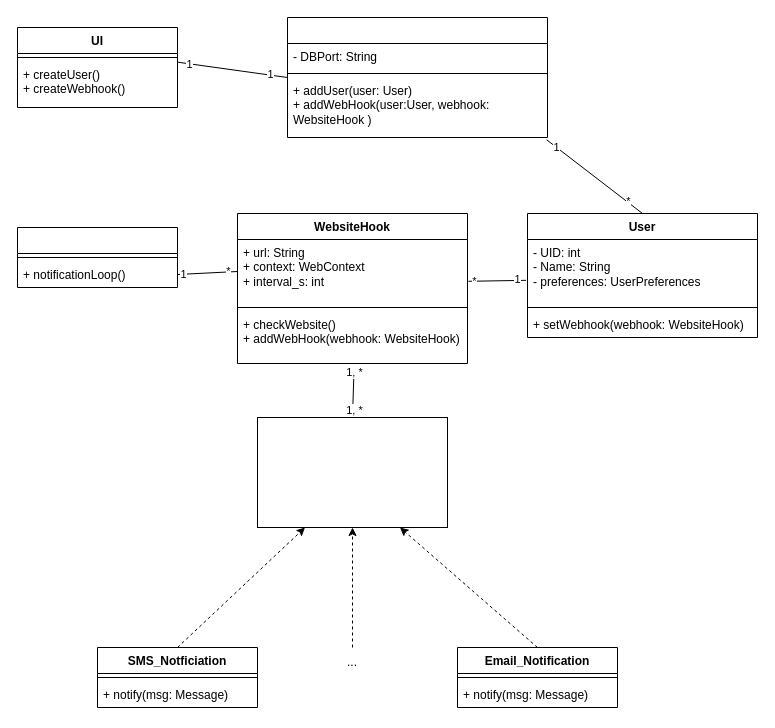
The diagram is 775 pixels wide and 728 high, and some of its shapes have lost their labels. Each missing label, with the box of its shape:
<<Abstract>> Notification + notify(msg: Message): (256, 416, 448, 528)
DataController: (286, 16, 548, 138)
TimeController: (16, 226, 178, 288)
